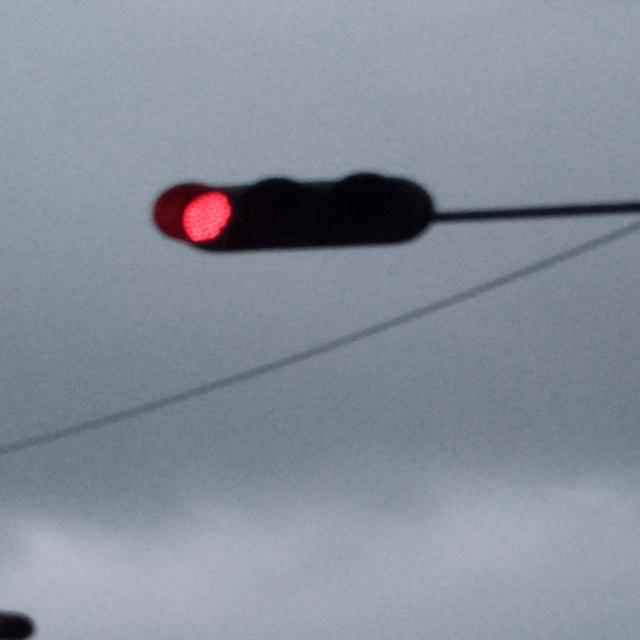red light: (162, 179, 426, 251)
